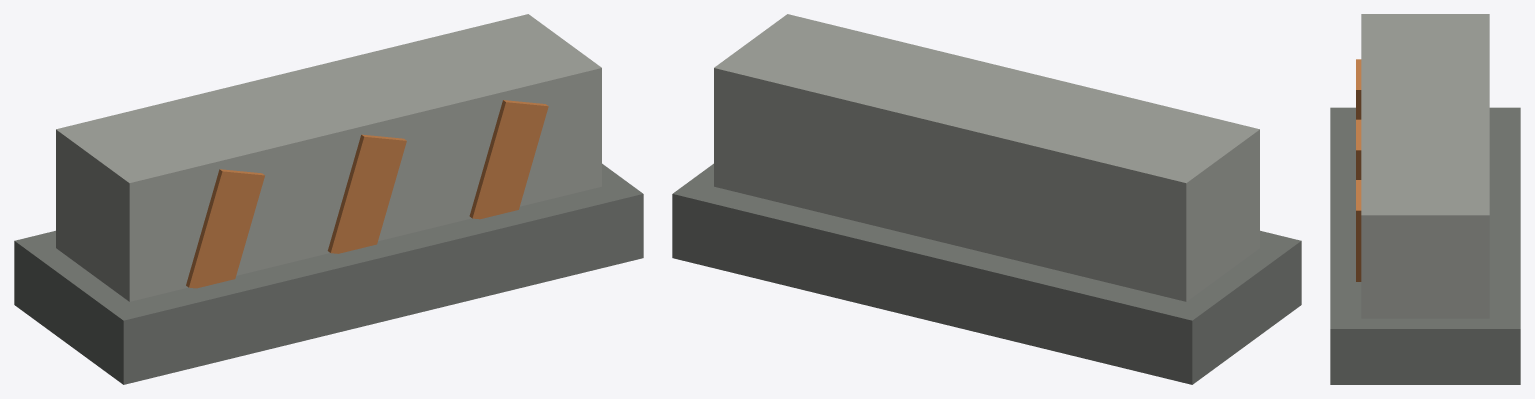
The model's file is SC_Barrier.glb.
3 renders of one model, left to right at view 1: azimuth 30°, elevation 25°; view 2: azimuth 150°, elevation 25°; view 3: azimuth 270°, elevation 25°, orthographic. The views are drawn at different scales.
Parts seen in each view (by area): view 1: SC_Barrier; view 2: SC_Barrier; view 3: SC_Barrier.
Part boxes in pixels (box(x1,y1,x2,y2)): SC_Barrier: box(14, 14, 643, 384); SC_Barrier: box(672, 14, 1301, 384); SC_Barrier: box(1330, 14, 1520, 384).
Size of the model in its own units: 11 by 3.7 by 4.
Materials: 1 (1 with a texture image).
